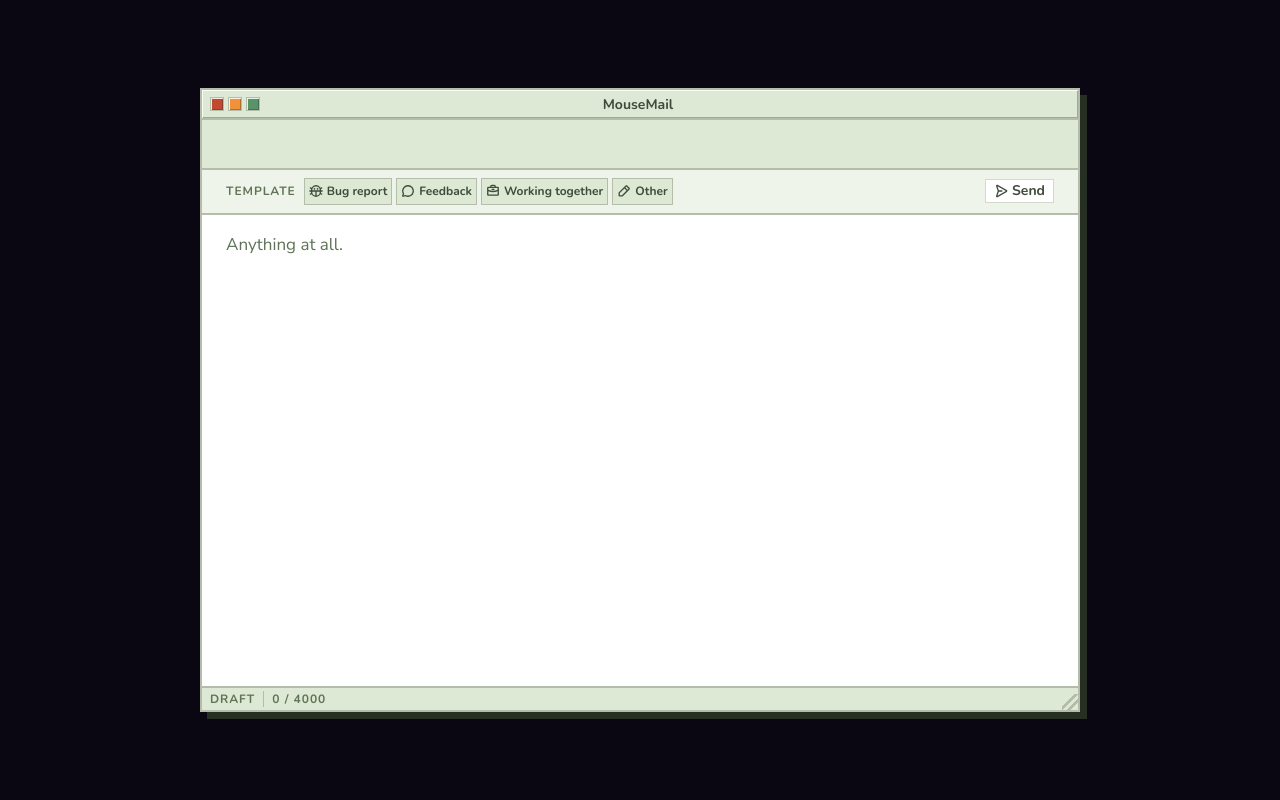
Test: MouseMailWindow › thanks the sender in a dialog over the draft
Type "smiled" into the text box named "message". click: (640, 450)
box: 202,215 -> 1078,686
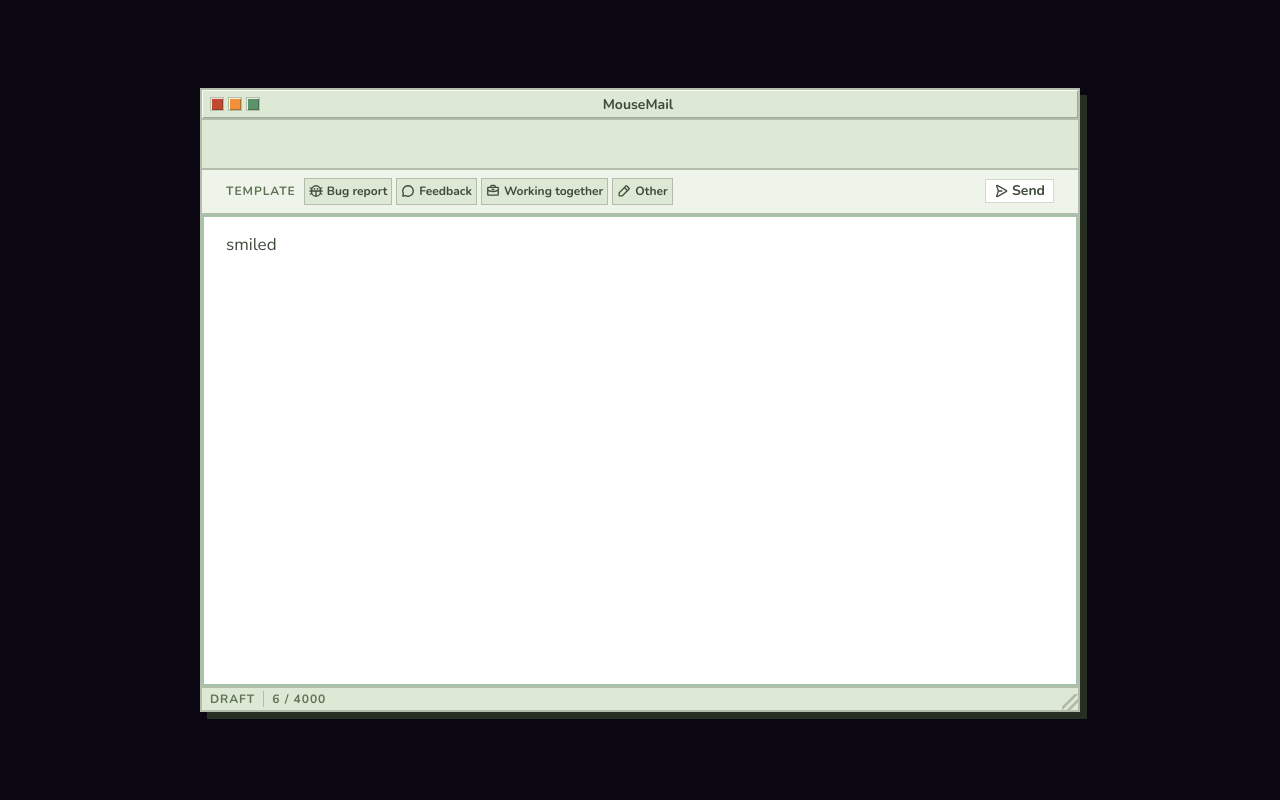
Click the button "Send". click: (1020, 191)
box: 985,179 -> 1054,203
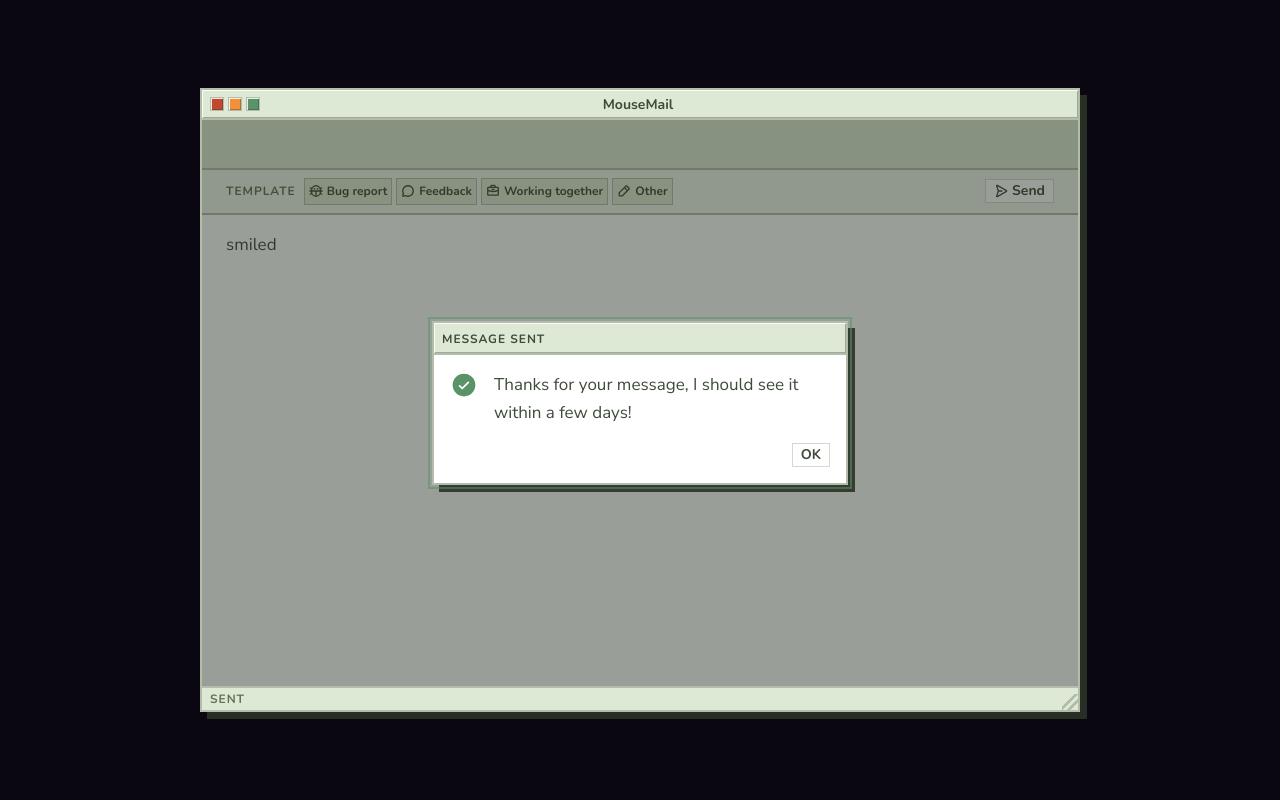
Check: the text "Thanks for your message, I should see it within a few days!" is shown, box 494,372 -> 830,427
Check: the dialog shows "Thanks for your message", box 494,374 -> 798,424
Check: the text "Sent" is shown, box 210,691 -> 245,707
